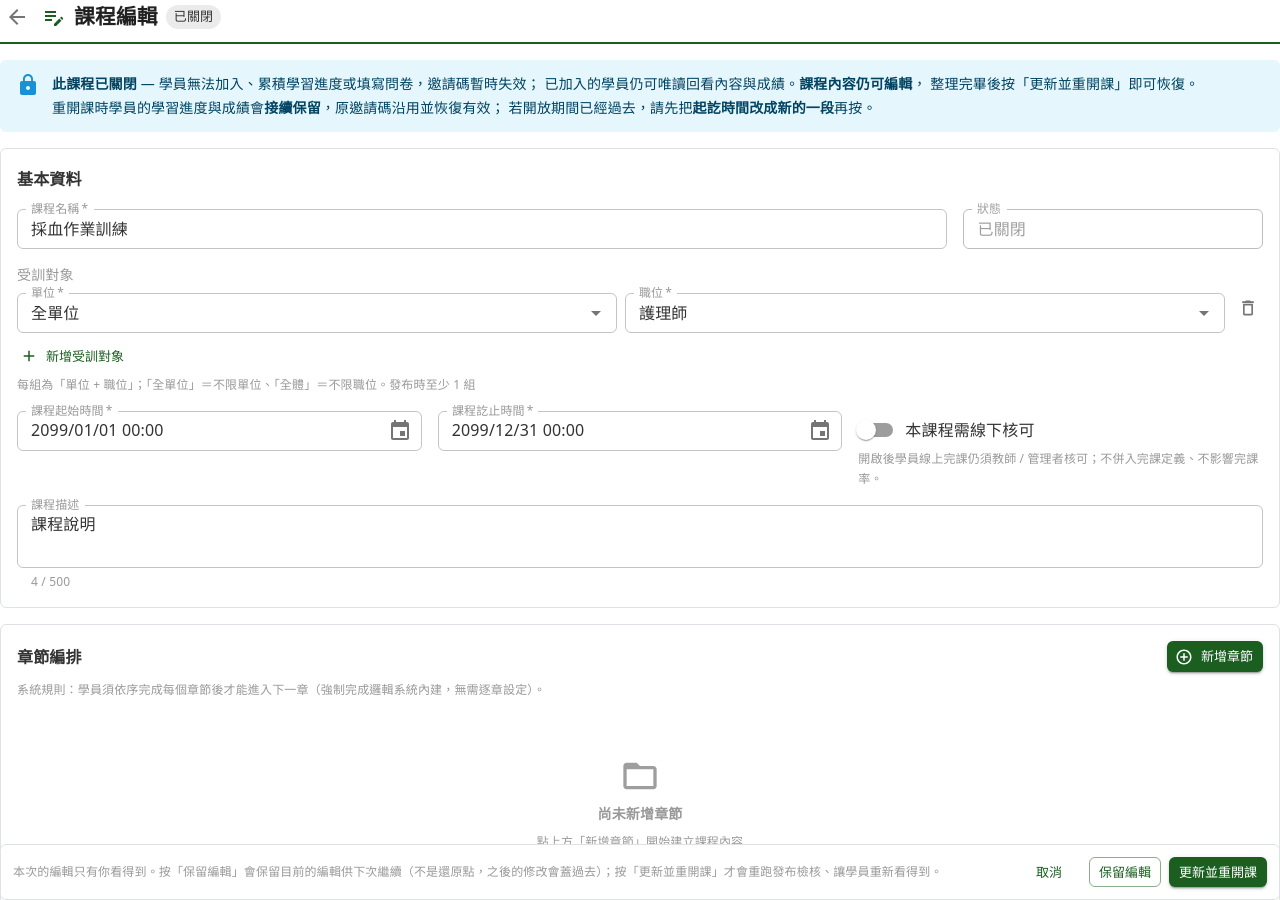
it: 草稿按「取消」要先講清楚哪一半留著（#804 ①） › 已關閉 的同一個視窗指向「更新並重開課」，不是「更新」（#812）
In the field showing "採血作業訓練": x=482, y=229 [17,209,948,249], type "X"
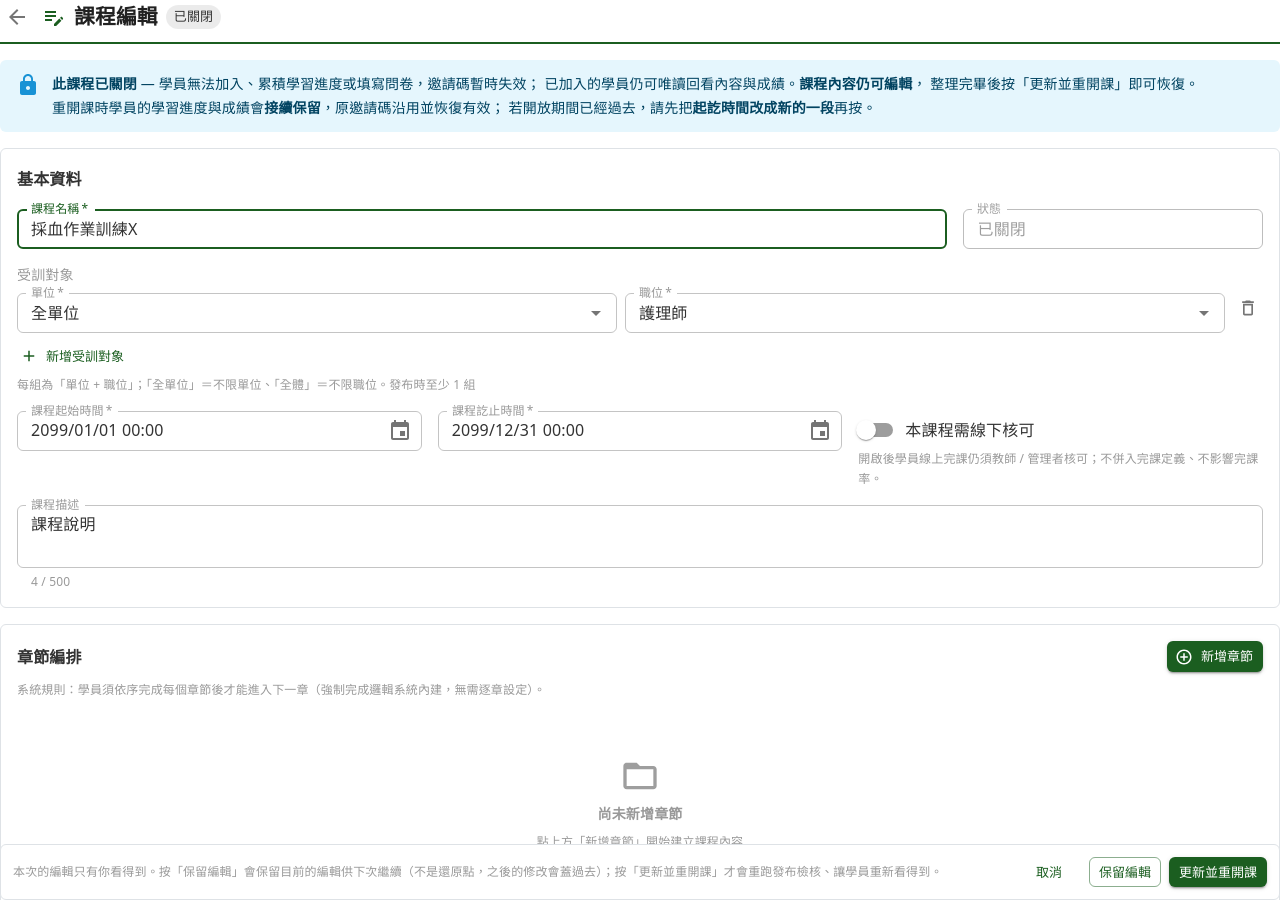
Click the button "取消": x=1049, y=872 [1017,856,1081,887]
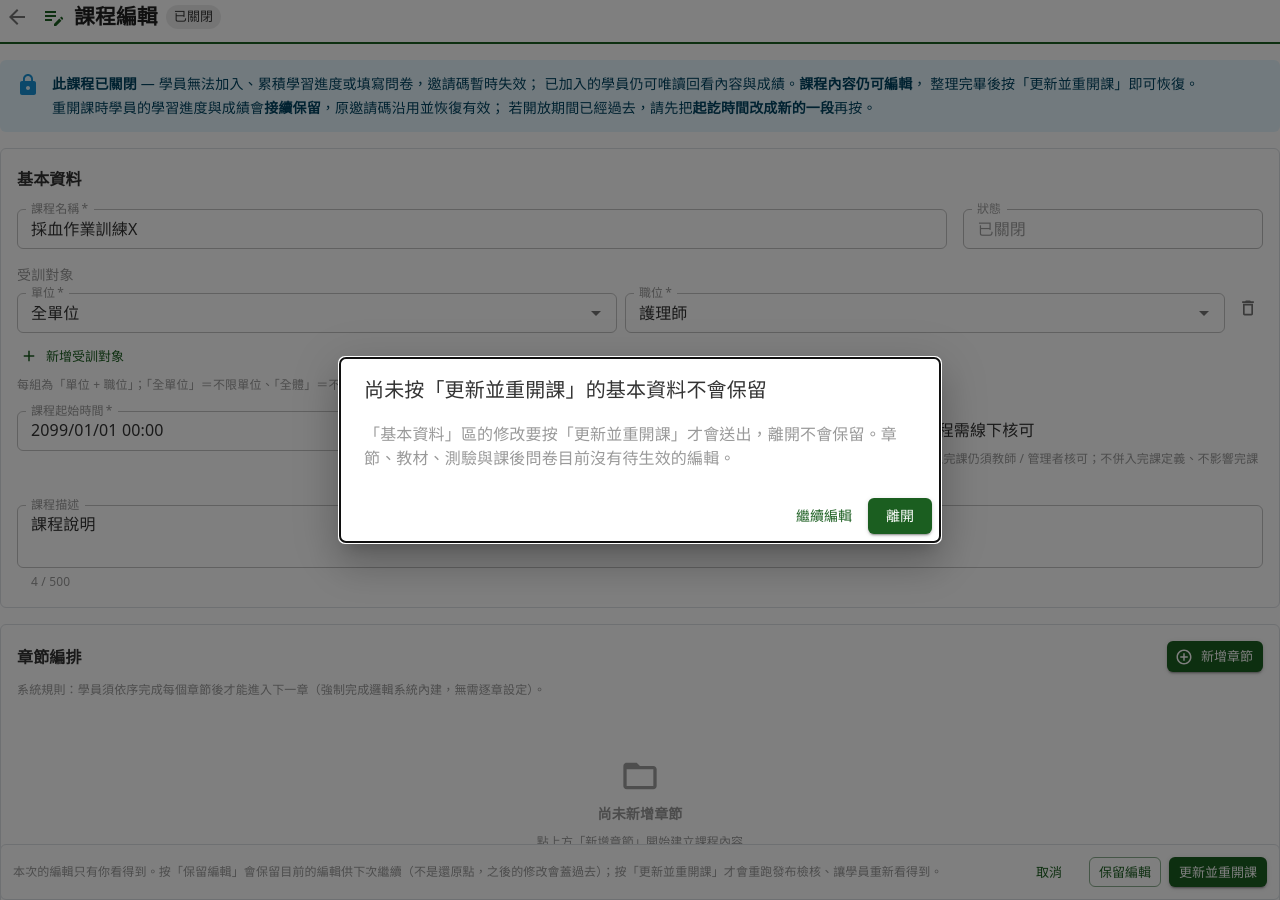
Now the text "「基本資料」區的修改要按「更新並重開課」才會送出，離開不會保留。章節、教材、測驗與課後問卷目前沒有待生效的編輯。" is shown, box [364,422,916,470]
Now the heading "尚未按「更新並重開課」的基本資料不會保留" is shown, box [364,376,767,403]
